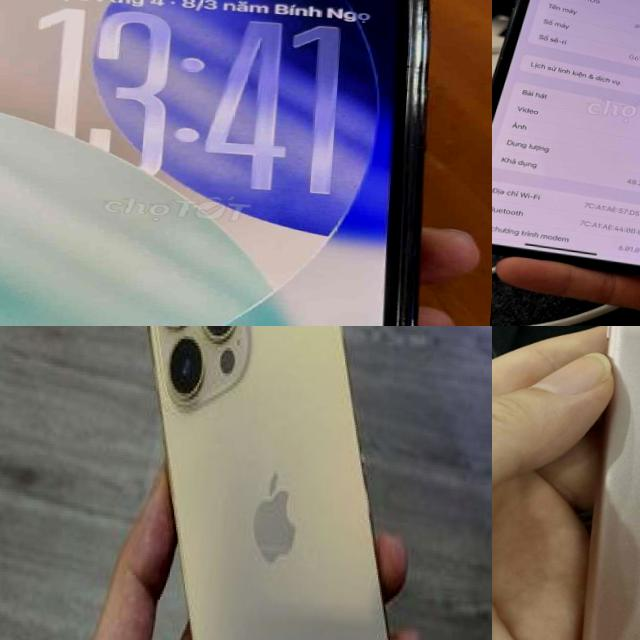gen_11: (492, 0, 640, 271)
gen_12_13: (0, 0, 452, 326), (102, 326, 448, 640)
gen_7_8: (563, 326, 640, 640)
